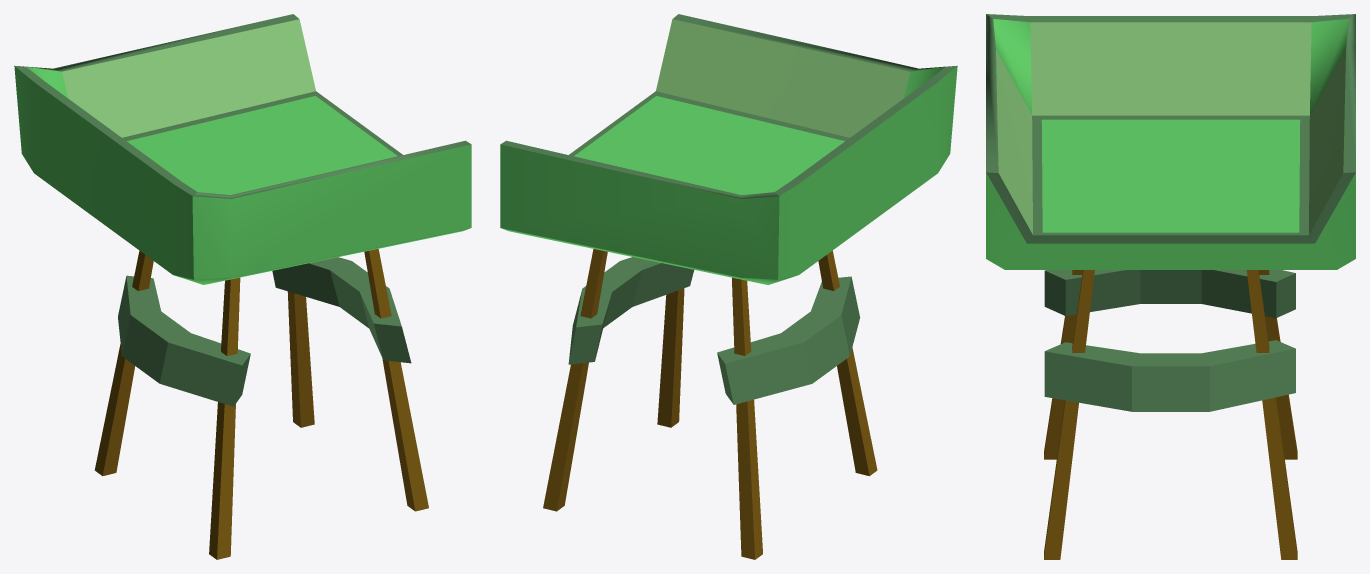
File: Stool_Bar_Counter.fbx
3 renders of one model, left to right at view 1: azimuth 30°, elevation 25°; view 2: azimuth 150°, elevation 25°; view 3: azimuth 270°, elevation 25°, orthographic. The views are drawn at different scales.
Visible parts, largest first — view 1: Kitchen_Bar_Chair; view 2: Kitchen_Bar_Chair; view 3: Kitchen_Bar_Chair.
Boxes of the visible parts, x1,y1,x2,y2 form: Kitchen_Bar_Chair: (14,14,471,559); Kitchen_Bar_Chair: (500,14,957,559); Kitchen_Bar_Chair: (986,14,1355,559).
Bounding box in the file's own units: 71.06 × 96.26 × 78.3.
